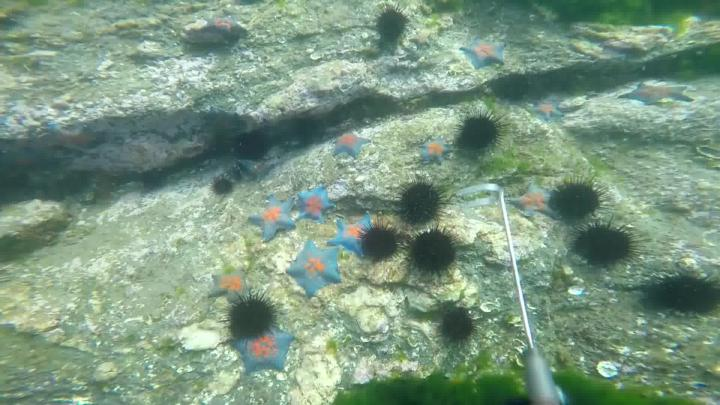echinus: (555, 171, 607, 224), (402, 229, 458, 278), (647, 273, 720, 310), (566, 226, 638, 262), (223, 294, 277, 342), (393, 178, 444, 226), (455, 108, 505, 153), (358, 223, 400, 262), (374, 4, 411, 47), (441, 311, 476, 349), (236, 132, 265, 161), (139, 168, 164, 192), (211, 175, 233, 197)
scallop: (597, 360, 620, 379)
starfish: (285, 244, 340, 296), (237, 328, 293, 375), (251, 190, 293, 244), (458, 35, 508, 76), (621, 79, 689, 108), (337, 212, 374, 257), (300, 184, 332, 224), (513, 187, 550, 216), (207, 268, 241, 299), (335, 129, 371, 158), (419, 139, 448, 166), (533, 97, 559, 121)
